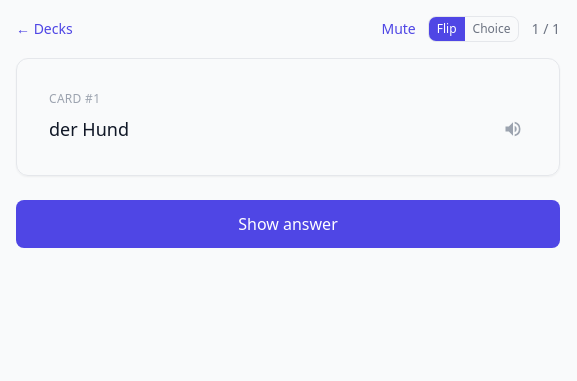
Test case: StudyPage › with speech configured › a language with no installed voice stays silent
Check: the text "der Hund" is shown, box [49,117,129,141]
Click the button "Show answer": x=288, y=224 [16,200,560,248]
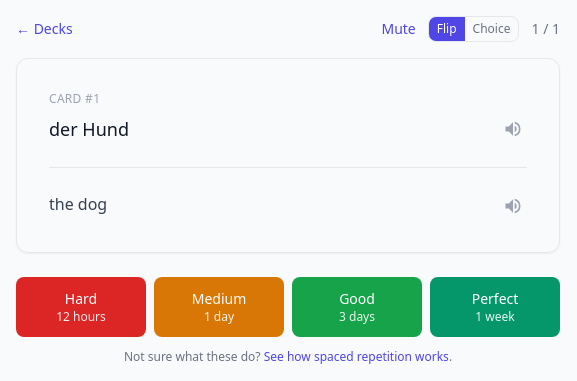
Check: the text "the dog" is shown, box [49,193,107,215]
